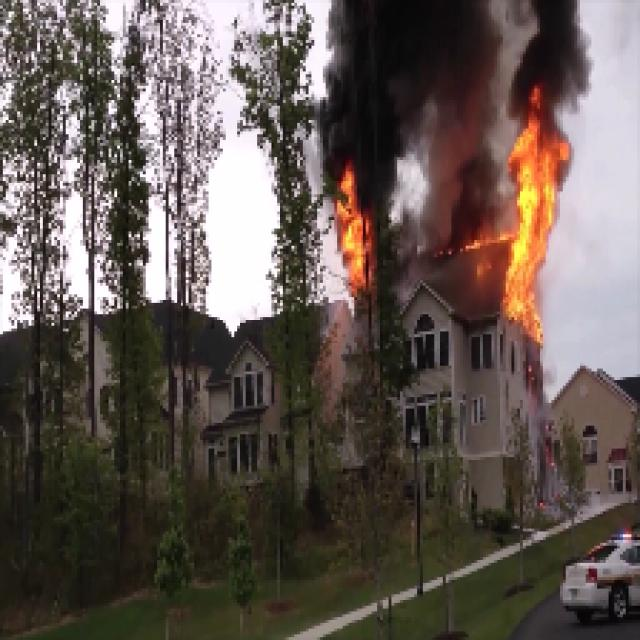fire: (508, 128, 559, 339), (333, 172, 374, 293)
smoke: (328, 0, 590, 111), (380, 114, 498, 281)
